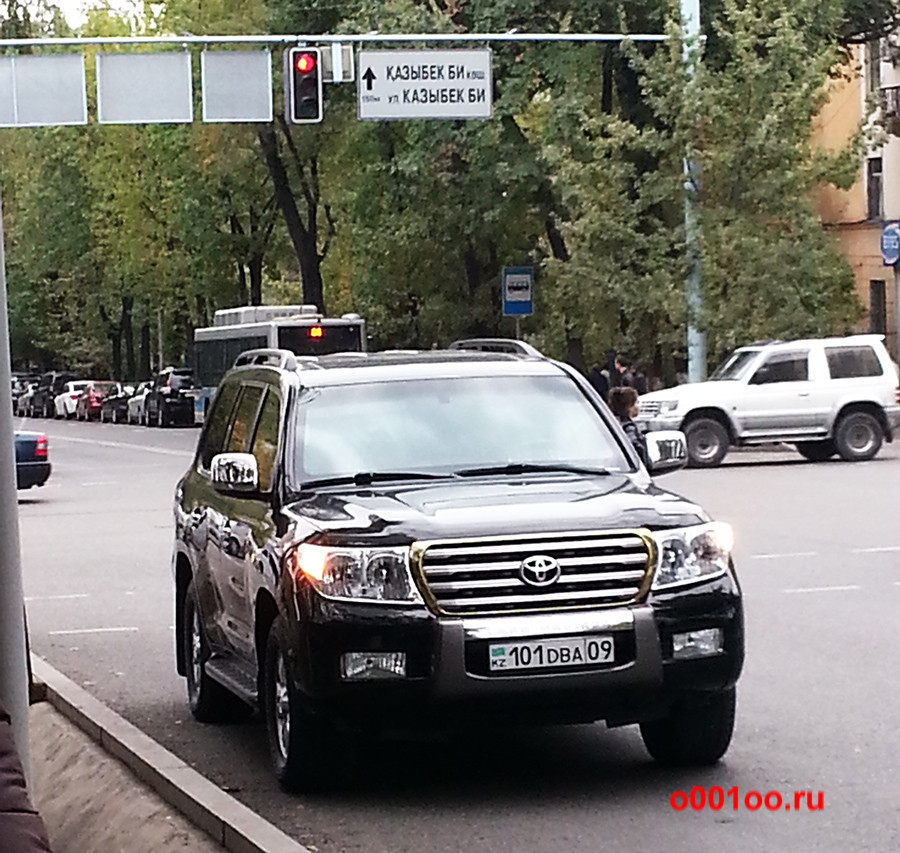license_plate: (487, 637, 618, 665)
